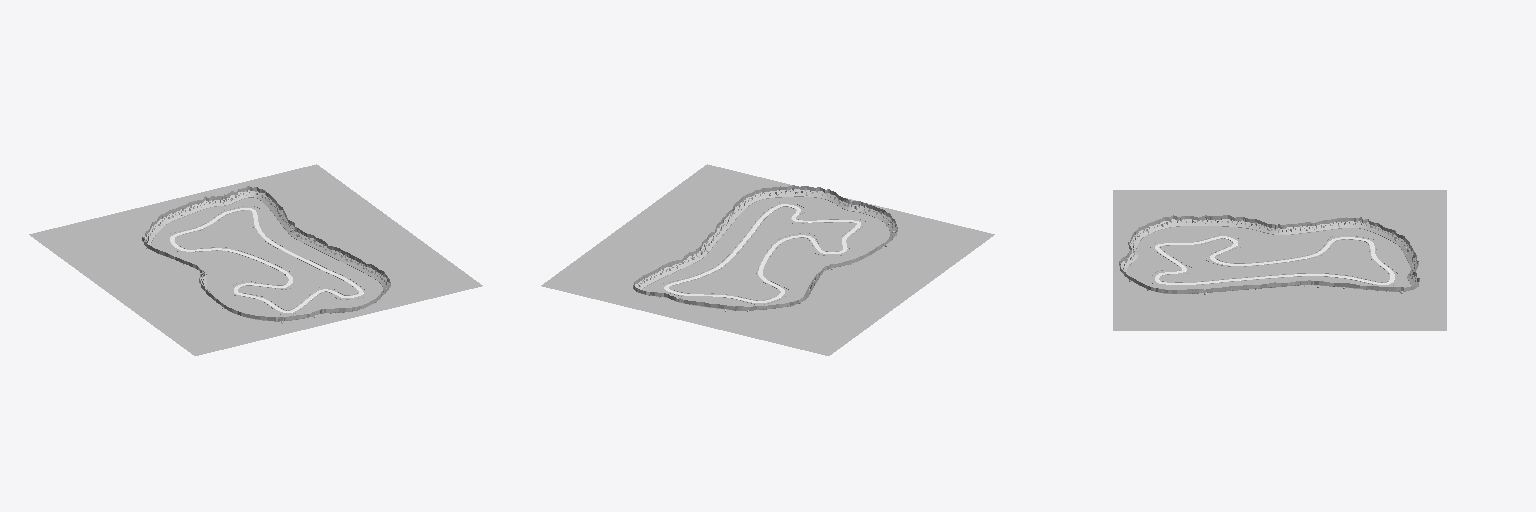
The picture shows the model from 3 angles: view 1: azimuth 30°, elevation 25°; view 2: azimuth 150°, elevation 25°; view 3: azimuth 270°, elevation 25°; orthographic projection.
Parts seen in each view (by area): view 1: Plane, RaceTrack_Wall_00, RaceTrack_Main_00; view 2: Plane, RaceTrack_Wall_00, RaceTrack_Main_00; view 3: Plane, RaceTrack_Wall_00, RaceTrack_Main_00.
Boxes of the visible parts, <box> form: Plane: <box>29,164,482,355</box>; RaceTrack_Wall_00: <box>142,186,390,321</box>; RaceTrack_Main_00: <box>170,208,363,312</box>; Plane: <box>541,164,994,355</box>; RaceTrack_Wall_00: <box>633,185,897,310</box>; RaceTrack_Main_00: <box>664,204,860,302</box>; Plane: <box>1113,190,1446,330</box>; RaceTrack_Wall_00: <box>1119,215,1419,293</box>; RaceTrack_Main_00: <box>1155,236,1394,284</box>.
Bounding box in the file's own units: 1200 × 35.27 × 1200.